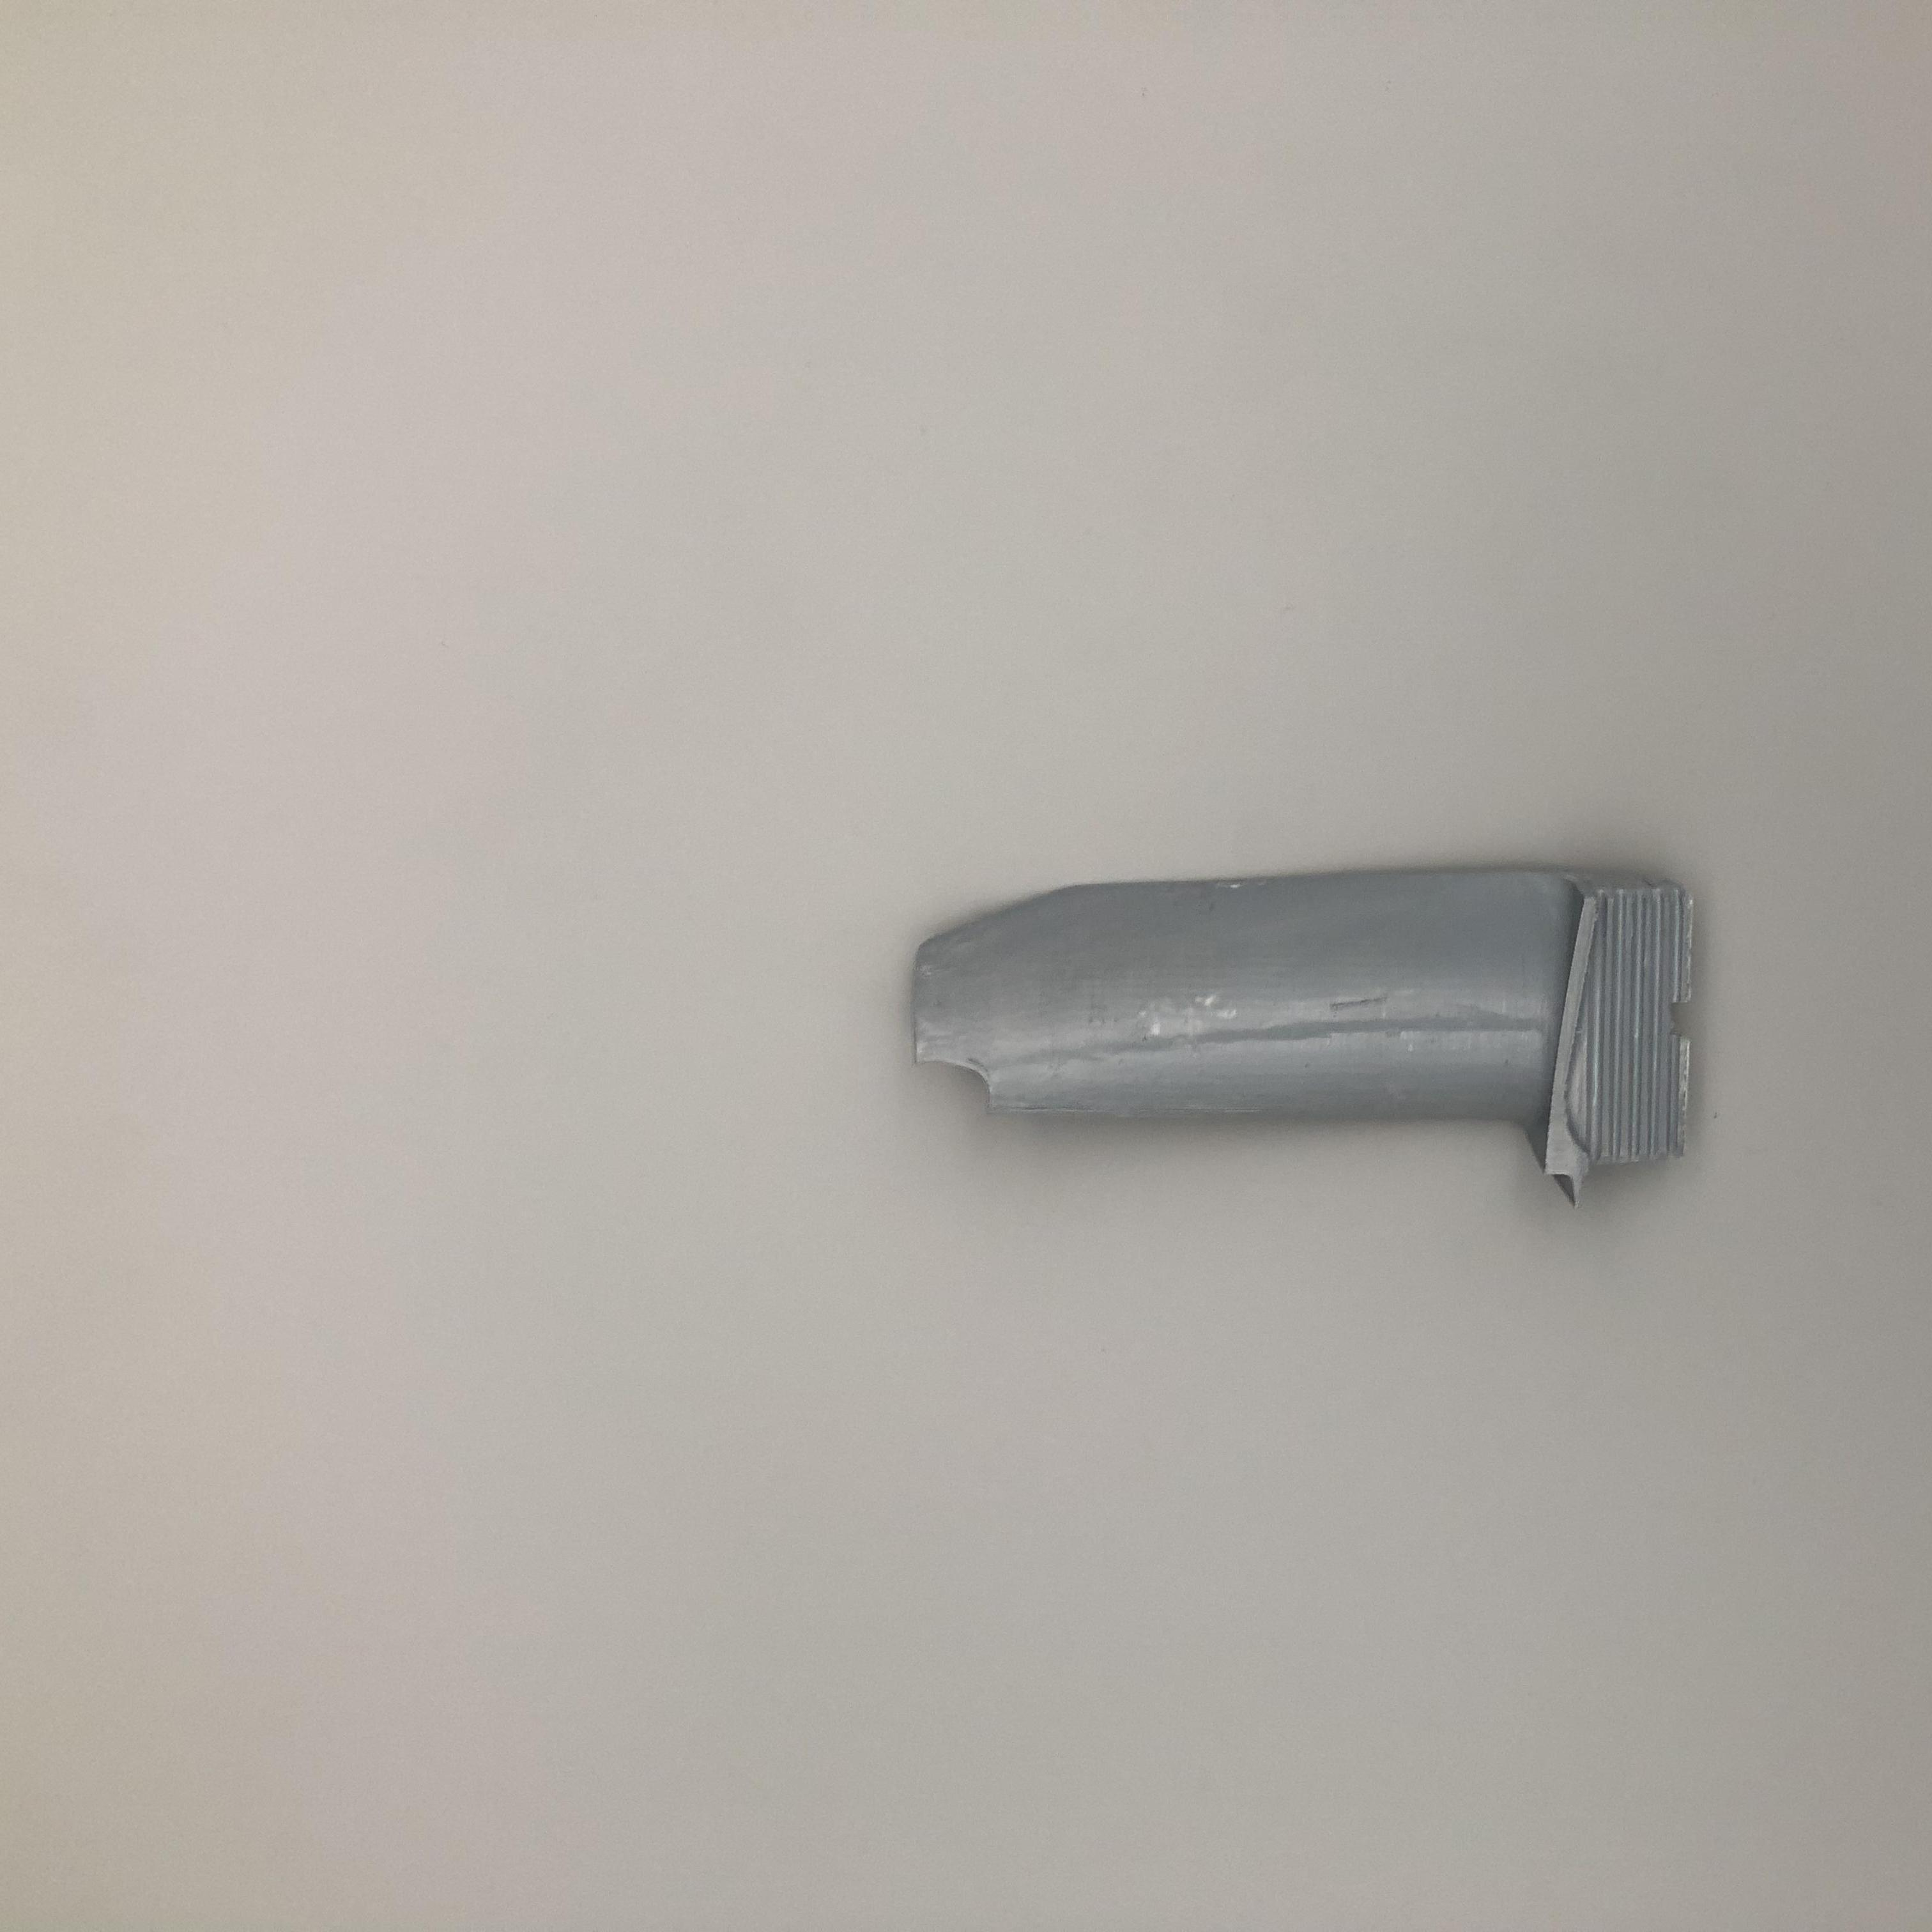fracture: (916, 1028, 1012, 1120)
